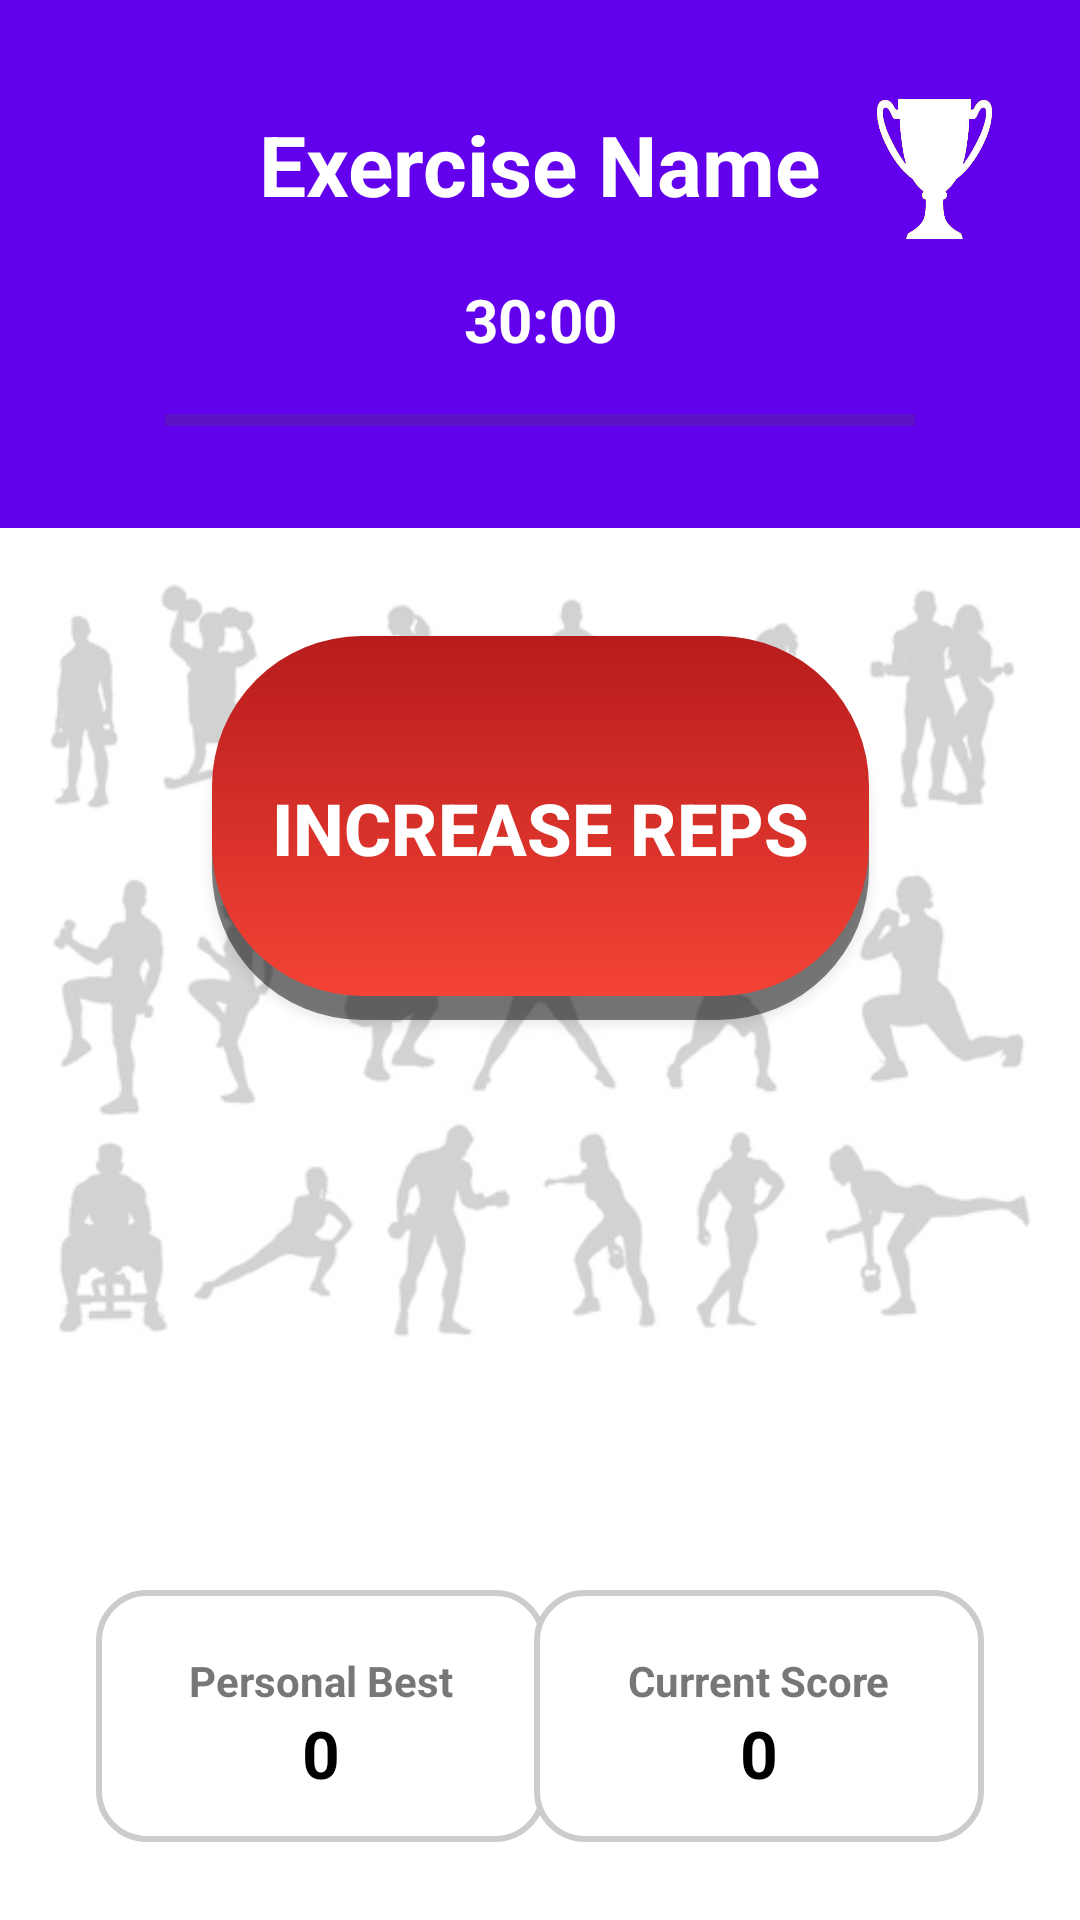

Screen size 1080px×1920px. Icon name, then its center in pixels as (x=x, y=y):
trophy: (x=934, y=168)
